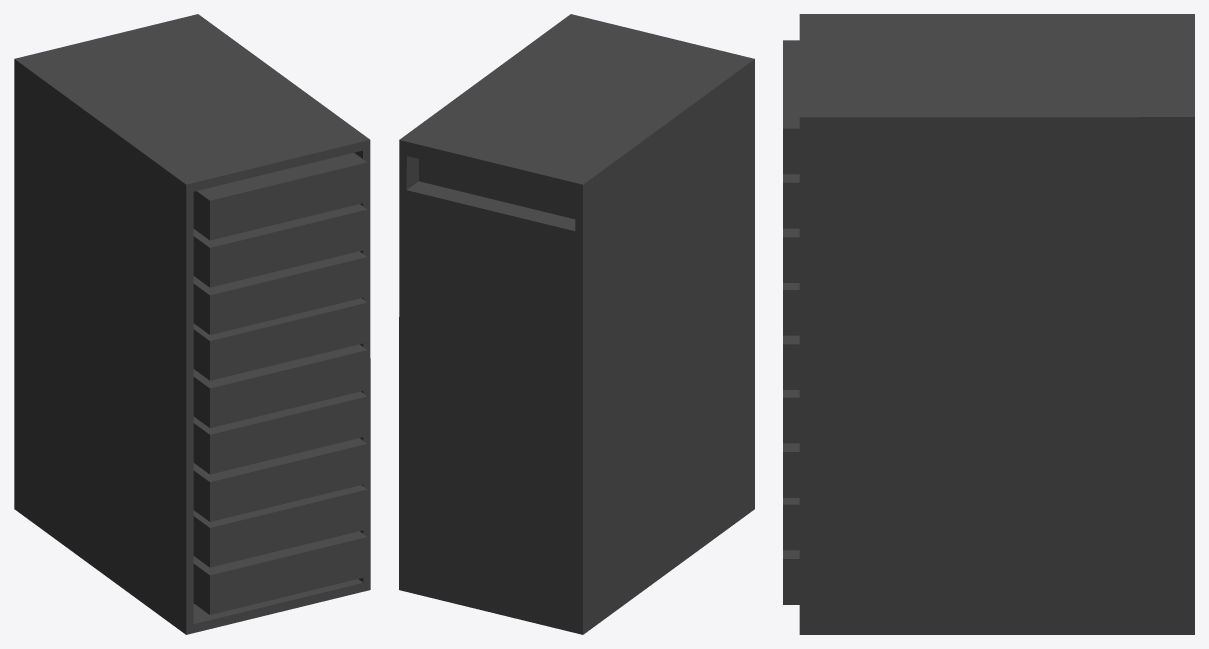
The model's file is Server.fbx.
3 renders of one model, left to right at view 1: azimuth 30°, elevation 25°; view 2: azimuth 150°, elevation 25°; view 3: azimuth 270°, elevation 25°, orthographic. The views are drawn at different scales.
Parts seen in each view (by area): view 1: Server; view 2: Server; view 3: Server.
Part boxes in pixels (x1=…): Server: x1=14, y1=14, x2=370, y2=634; Server: x1=399, y1=14, x2=754, y2=634; Server: x1=783, y1=14, x2=1194, y2=634.
Bounding box in the file's own units: 124 × 289 × 208.
